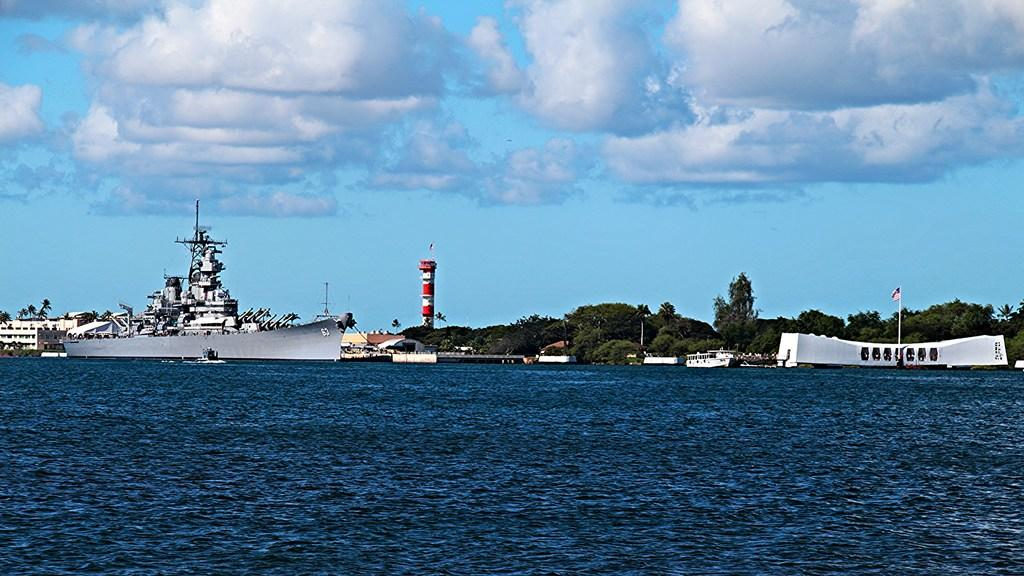PassengerShip: (684, 351, 730, 372)
